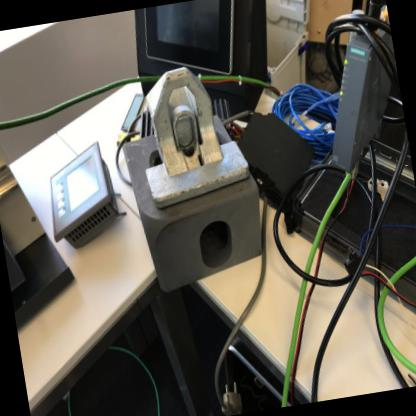CornerCasting: (118, 122, 275, 296)
Twistlock: (122, 53, 258, 204)
